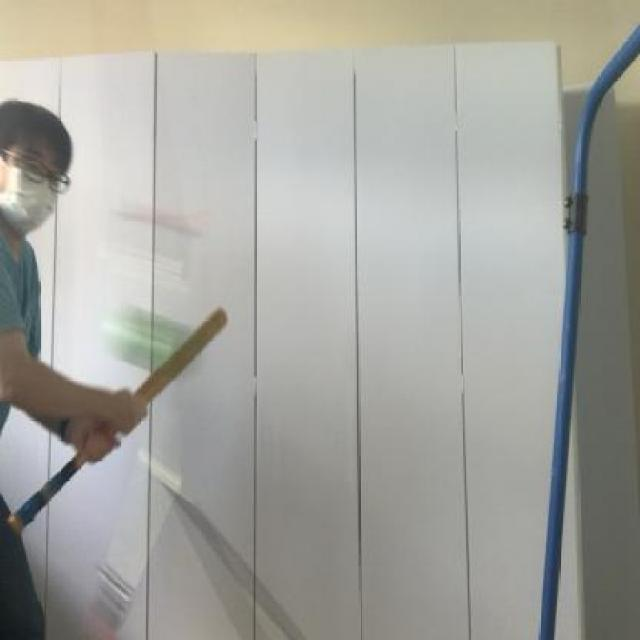baseball: (88, 284, 210, 396)
